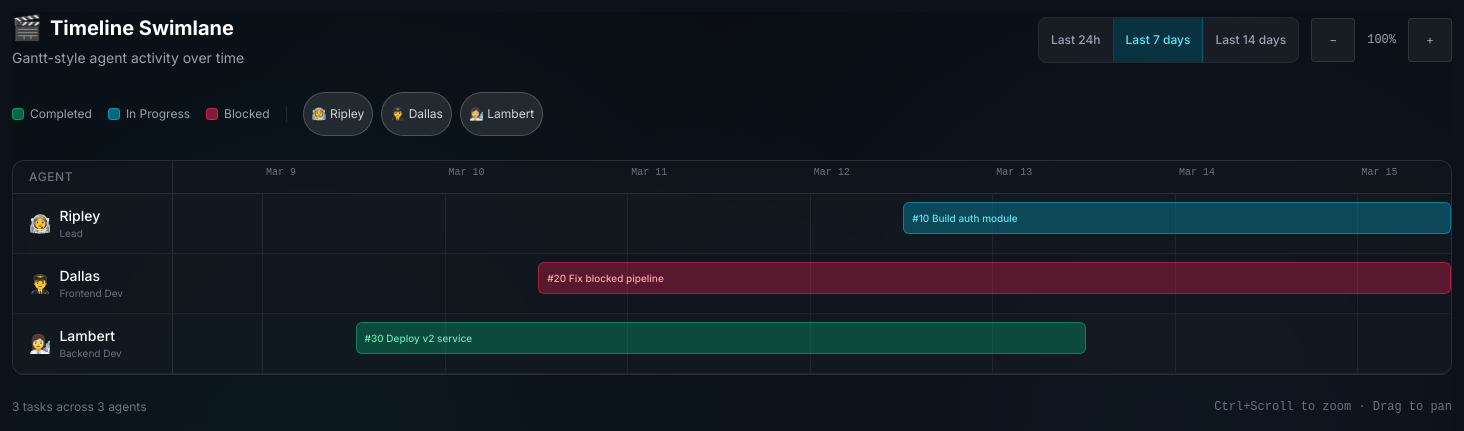
TimelineSwimlane › shows tooltip on task bar hover
The image size is (1464, 431).
Hover over the element with class "cursor-pointer" showing "#10 Build auth module".
mouse_move(1177, 218)  # box [903,202,1451,234]
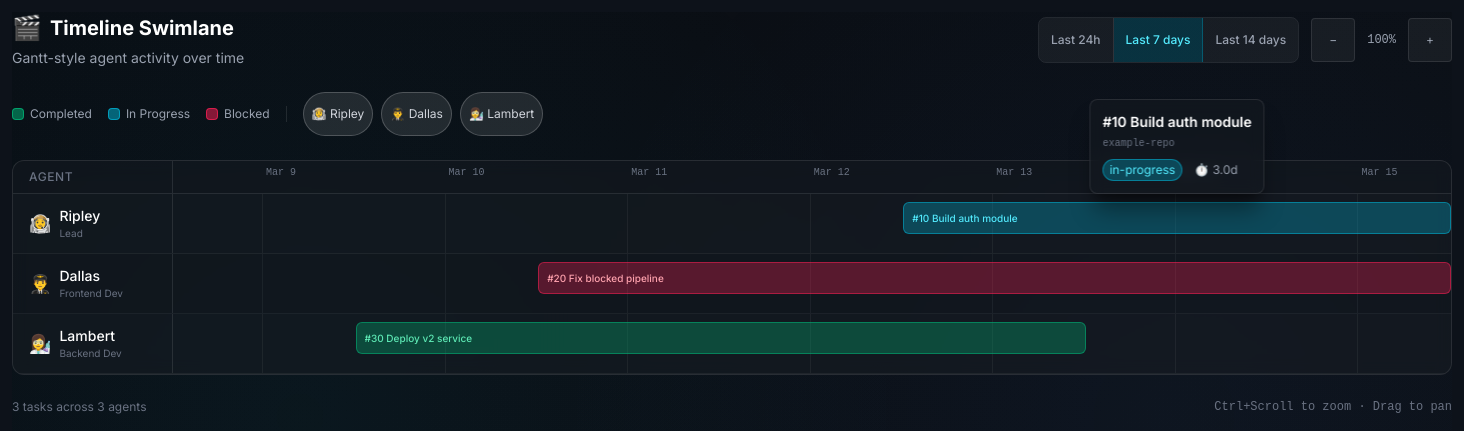
Result: the element with class "z-50" is shown at [1090,99,1265,194]
